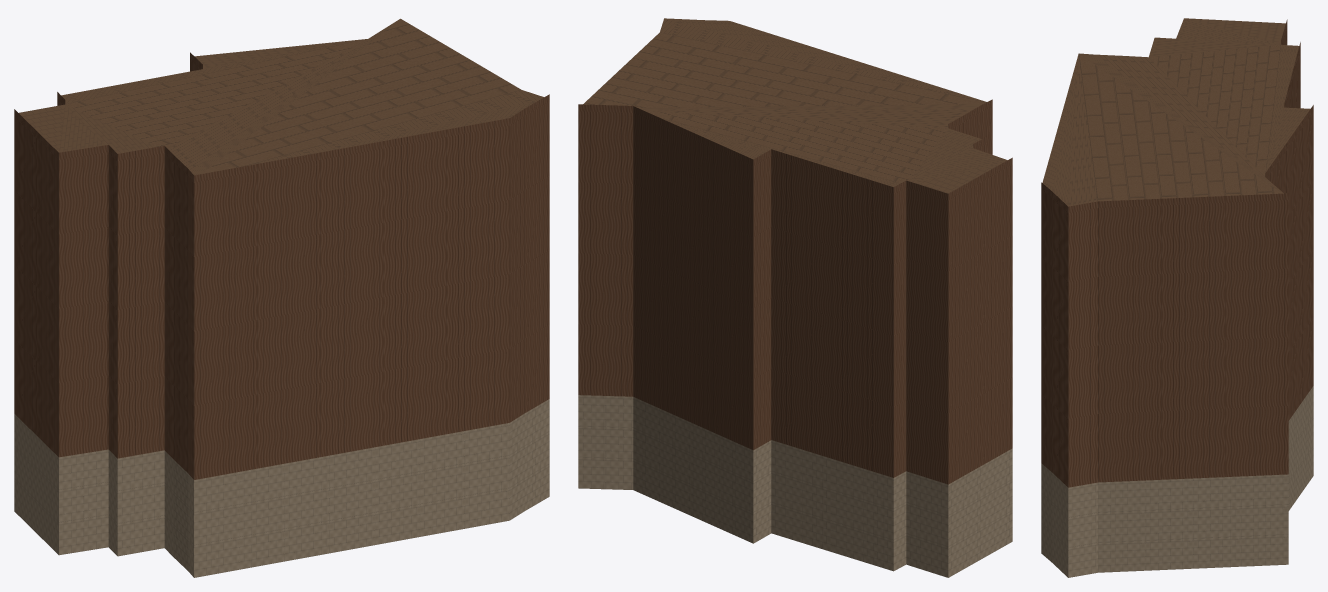
File: core_0108.gltf
The picture shows the model from 3 angles, left to right: view 1: azimuth 30°, elevation 25°; view 2: azimuth 150°, elevation 25°; view 3: azimuth 270°, elevation 25°; orthographic projection. The views are drawn at different scales.
Parts seen in each view (by area): view 1: core_0108; view 2: core_0108; view 3: core_0108.
Part boxes in pixels (bbox=[...]): core_0108: bbox=[14, 18, 549, 577]; core_0108: bbox=[578, 18, 1012, 577]; core_0108: bbox=[1041, 18, 1313, 577].
Size of the model in its own units: 23.34 by 20.98 by 13.93.
Materials: 3 (3 with a texture image).
